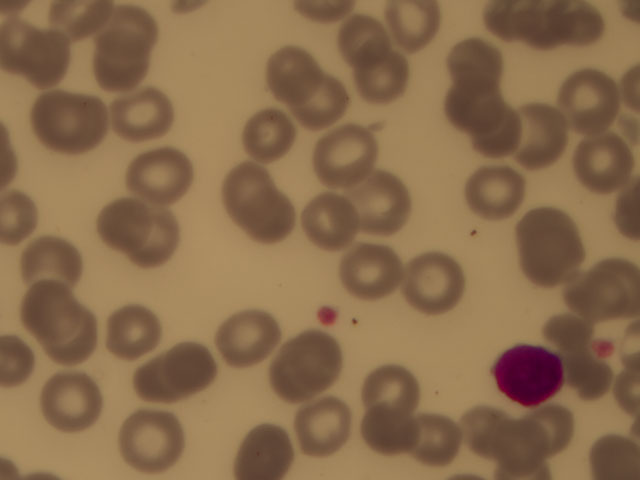Platelets: (591, 339, 615, 363), (315, 302, 339, 322)
RBC: (92, 34, 152, 91), (38, 91, 98, 148), (106, 83, 166, 140), (134, 143, 194, 200), (96, 193, 156, 250), (115, 213, 175, 270), (22, 239, 82, 296), (14, 284, 74, 341), (41, 310, 101, 367), (104, 301, 164, 358), (40, 372, 100, 429), (118, 351, 178, 408), (157, 335, 217, 392), (216, 308, 276, 365), (241, 194, 301, 251), (219, 160, 279, 217), (239, 105, 299, 162), (255, 44, 315, 101), (292, 81, 352, 138), (317, 124, 377, 181), (303, 197, 363, 254), (342, 172, 402, 229), (339, 244, 399, 301), (407, 255, 467, 312), (361, 359, 421, 416), (358, 402, 418, 459), (297, 396, 357, 453), (265, 355, 325, 412), (285, 330, 345, 387), (242, 423, 302, 480), (118, 411, 178, 468), (405, 411, 465, 468), (445, 402, 505, 459), (491, 418, 551, 475), (515, 403, 575, 460), (571, 359, 631, 416), (559, 271, 619, 328), (522, 235, 582, 292), (515, 200, 575, 257), (463, 165, 523, 222), (465, 106, 525, 163), (438, 79, 498, 136), (436, 44, 496, 101), (354, 54, 414, 111), (329, 9, 389, 66), (512, 103, 572, 160), (558, 67, 618, 124), (568, 135, 628, 192), (580, 259, 640, 316), (10, 28, 70, 85), (97, 1, 157, 57), (510, 1, 570, 57)
WBC: (490, 339, 568, 409)
